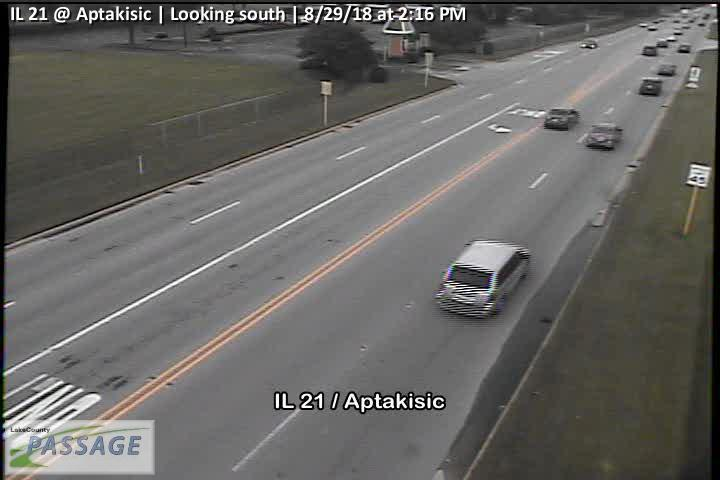Sedan: (433, 239, 530, 318), (584, 122, 623, 148), (542, 106, 581, 130), (639, 77, 662, 94), (657, 63, 677, 75), (642, 46, 657, 55)
